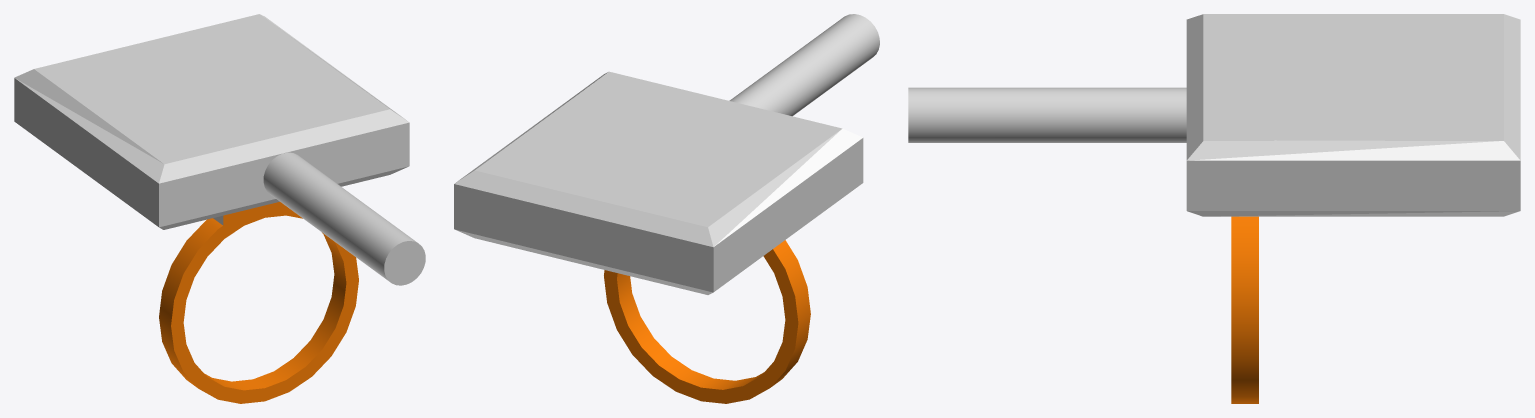
The model's file is BasketballGoal(color).dae.
The picture shows the model from 3 angles, left to right: view 1: azimuth 30°, elevation 25°; view 2: azimuth 150°, elevation 25°; view 3: azimuth 270°, elevation 25°; orthographic projection. The views are drawn at different scales.
Visible parts, largest first — view 1: SketchUp (×5); view 2: SketchUp (×5); view 3: SketchUp (×5).
Boxes of the visible parts, left/top/right/bottom form: SketchUp (×5): left=14, top=14, right=425, bottom=403; SketchUp (×5): left=454, top=14, right=879, bottom=403; SketchUp (×5): left=908, top=14, right=1520, bottom=403.
Bounding box in the file's own units: 118 × 217 × 123.
